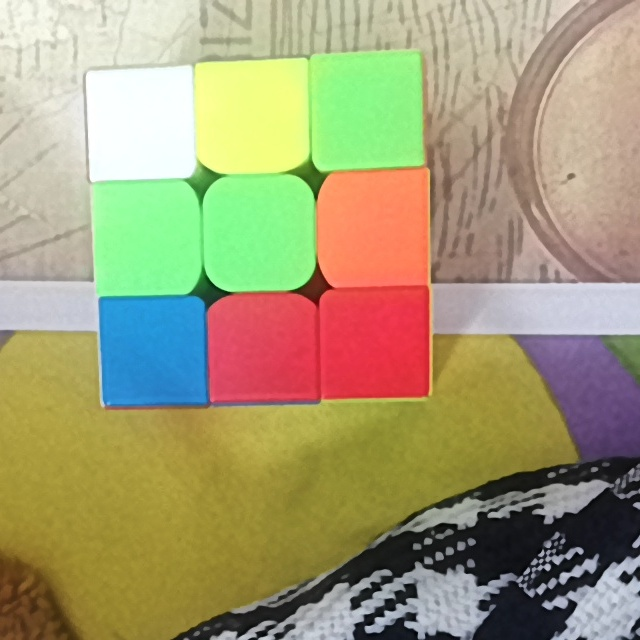tile: (314, 57, 418, 160), (331, 296, 428, 391), (103, 307, 201, 401), (329, 182, 424, 278), (98, 190, 189, 289), (203, 70, 306, 157), (92, 76, 186, 171), (211, 191, 306, 283), (218, 303, 310, 393)
